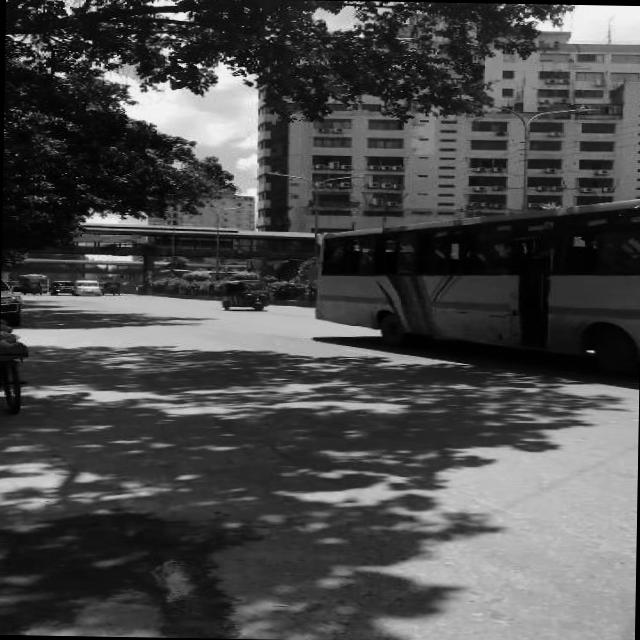bus: (312, 189, 640, 374), (18, 272, 48, 294)
motorcycle: (224, 277, 273, 310), (25, 280, 45, 293), (105, 280, 122, 294)
truck: (76, 278, 106, 296), (50, 278, 75, 294)
